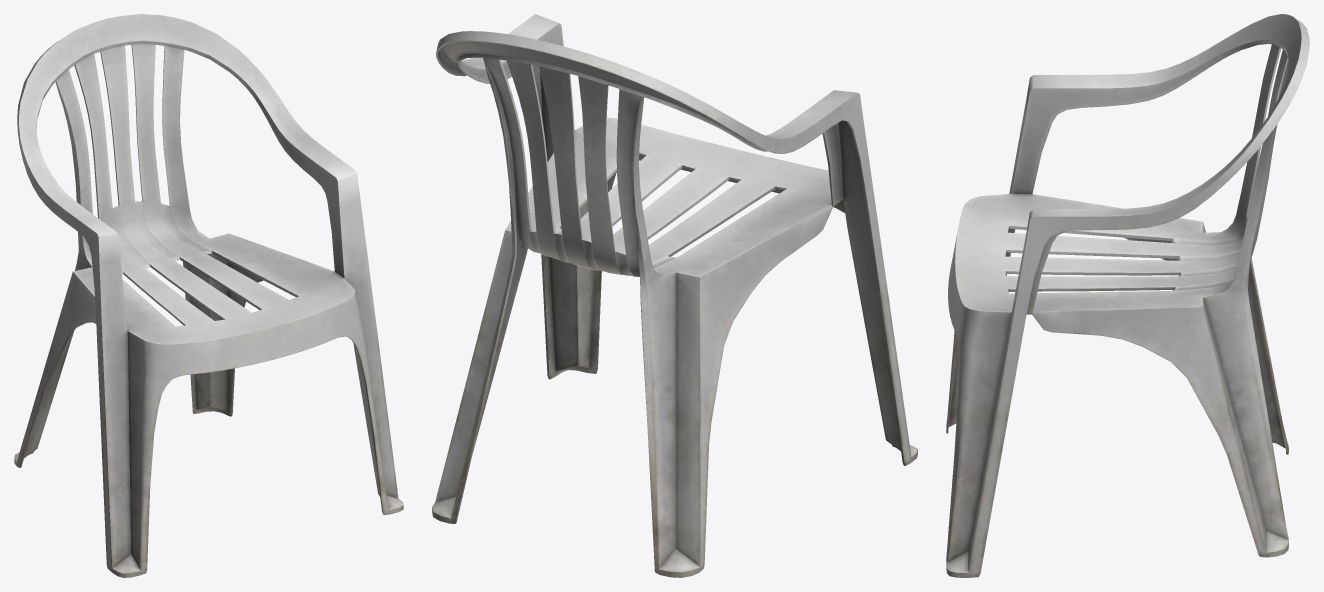
The model's file is plastic_monobloc_chair_01.glb.
3 views of the same model, side by side, from view 1: azimuth 30°, elevation 25°; view 2: azimuth 150°, elevation 25°; view 3: azimuth 270°, elevation 25° (orthographic). The views are drawn at different scales.
Parts seen in each view (by area): view 1: plastic_monobloc_chair_01; view 2: plastic_monobloc_chair_01; view 3: plastic_monobloc_chair_01.
Boxes of the visible parts, box(x1,y1,x2,y2) form: plastic_monobloc_chair_01: box(14, 14, 403, 577); plastic_monobloc_chair_01: box(432, 14, 917, 577); plastic_monobloc_chair_01: box(946, 14, 1309, 577).
Bounding box in the file's own units: 0.6418 × 0.8798 × 0.6276.
Materials: 1 (1 with a texture image).
